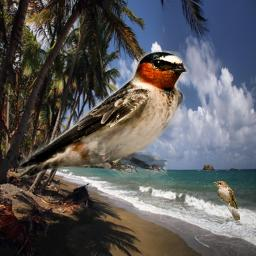Cuckoo: (212, 180, 240, 221)
Swallow: (16, 49, 189, 178)
